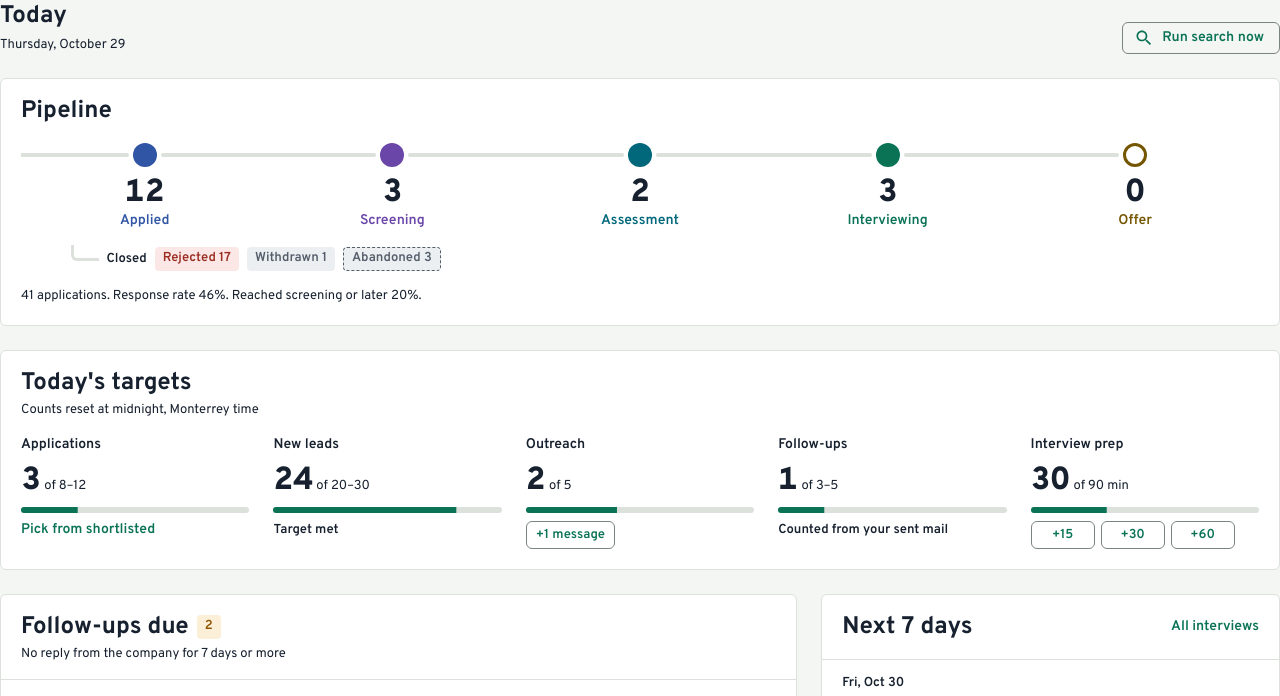
Test: TodayPage › +1 outreach and +15, +30 and +60 prep post /daily-activity and update the meter
Click the button "+1 message" at (570, 535), box top-left (526, 521), bottom-right (615, 549)
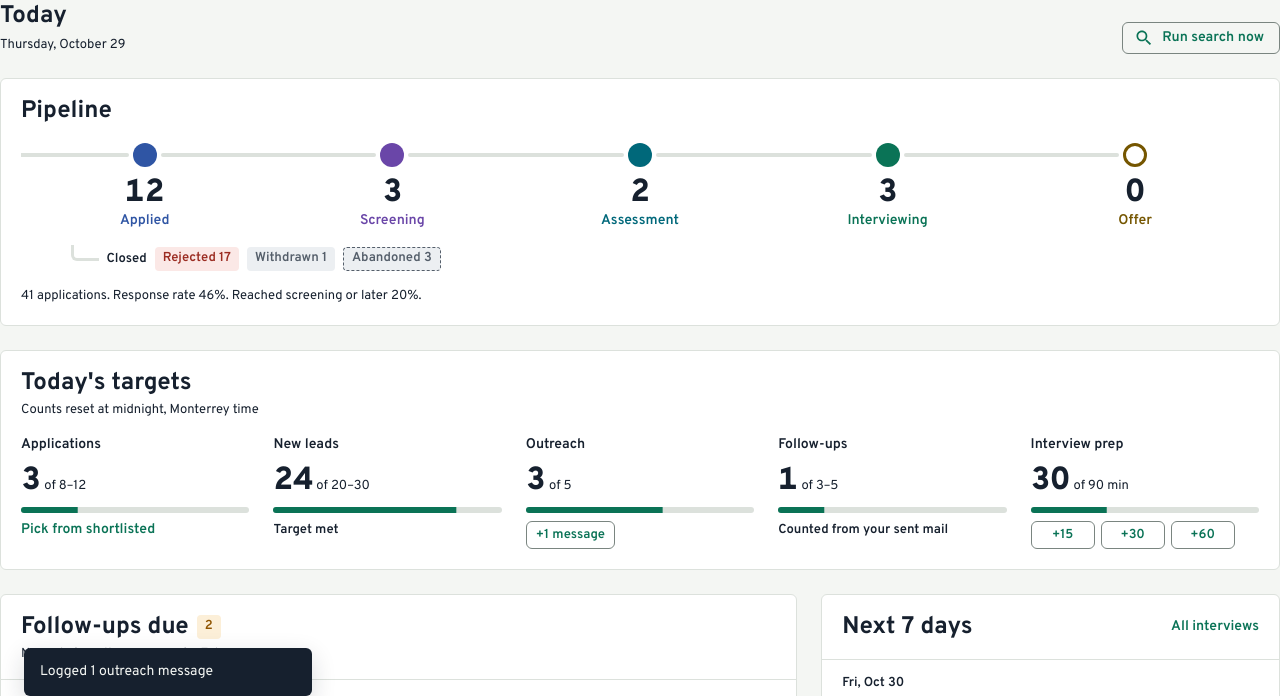
Check: the progress indicator named "Outreach" has attribute aria-valuenow="3", box top-left (526, 507), bottom-right (754, 513)
Click the button "+15" at (1063, 535), box top-left (1031, 521), bottom-right (1095, 549)
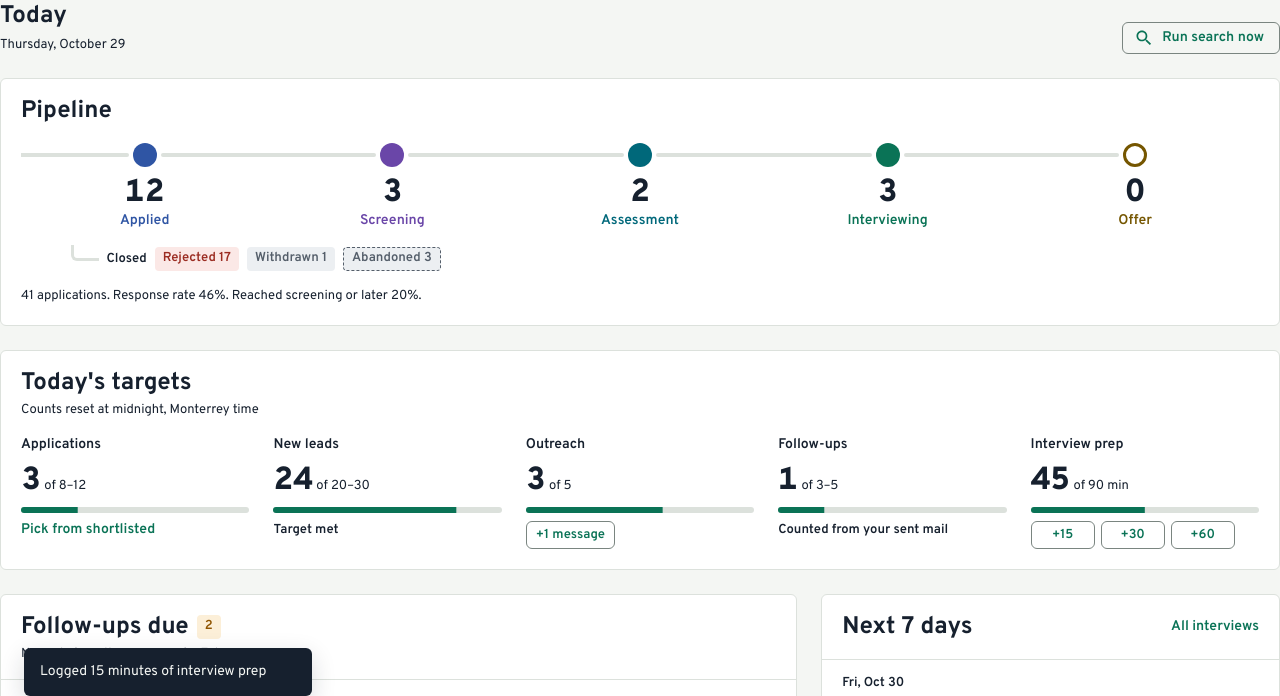
Check: the progress indicator named "Interview prep" has attribute aria-valuenow="45", box top-left (1031, 507), bottom-right (1259, 513)
Click the button "+30" at (1133, 535), box top-left (1101, 521), bottom-right (1165, 549)
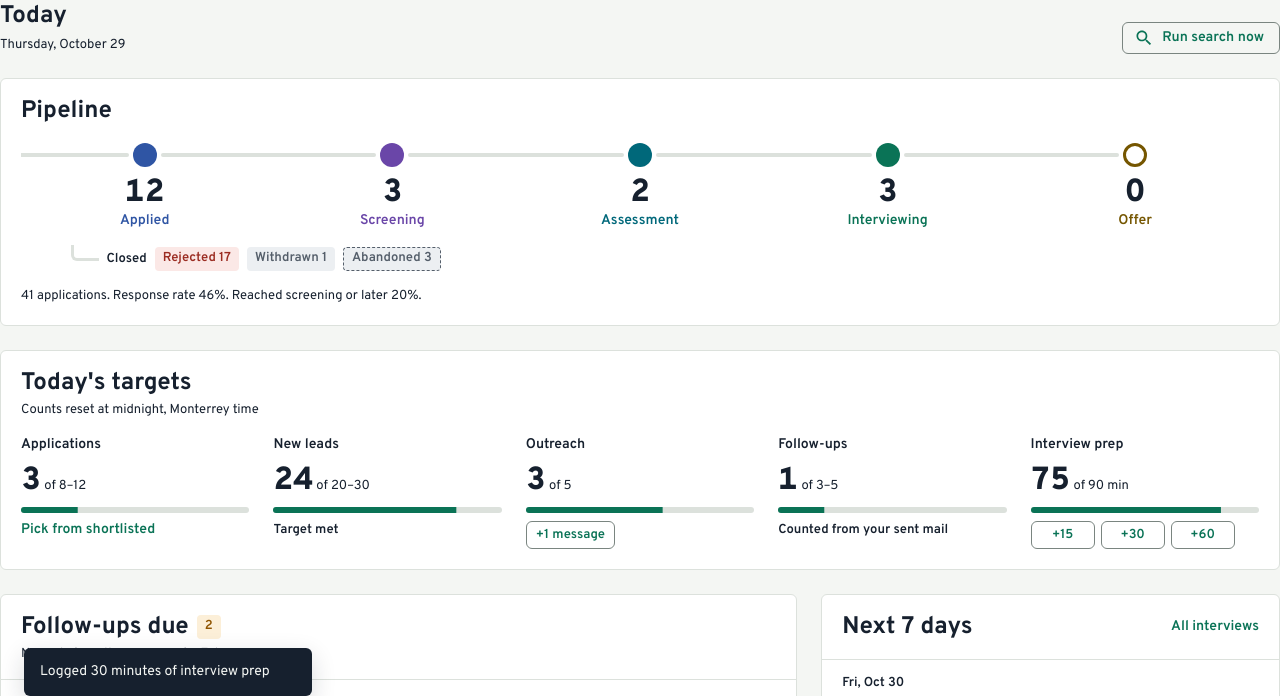
Check: the progress indicator named "Interview prep" has attribute aria-valuenow="75", box top-left (1031, 507), bottom-right (1259, 513)
Click the button "+60" at (1203, 535), box top-left (1171, 521), bottom-right (1235, 549)
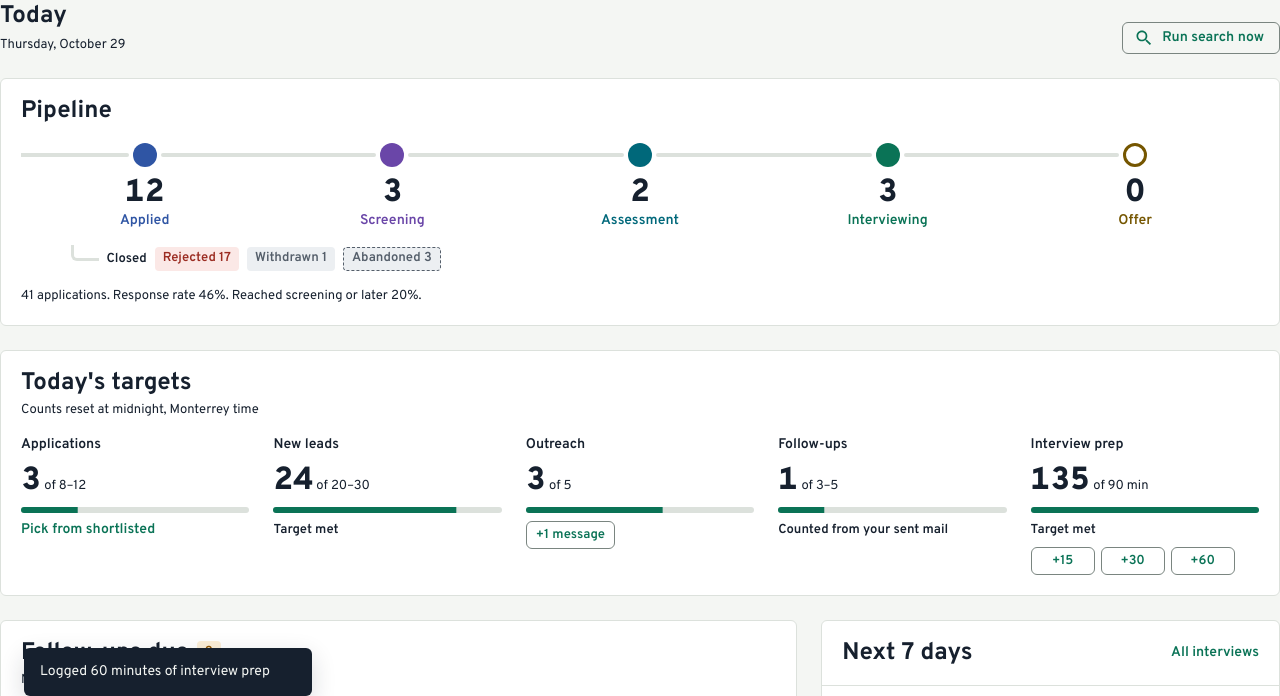
Check: the text "Target met" is shown 2 times, box top-left (273, 522), bottom-right (339, 538); top-left (1031, 522), bottom-right (1096, 538)
